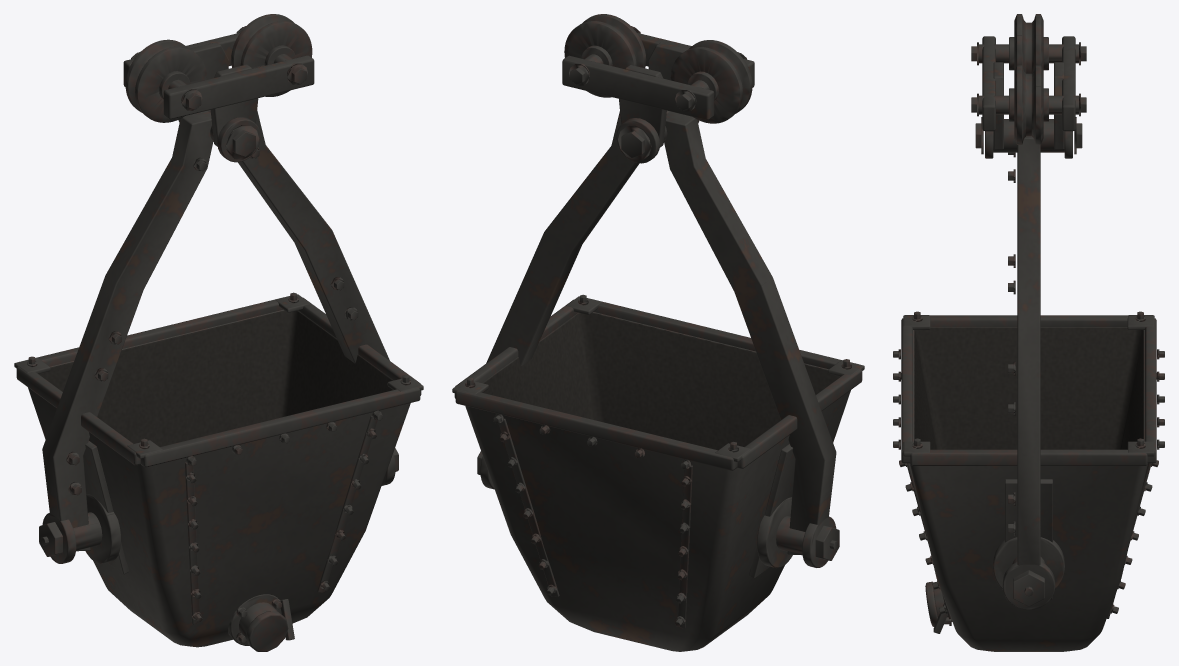
File: Tajia01_CoalBucket_v01.fbx
The picture shows the model from 3 angles, left to right: view 1: azimuth 30°, elevation 25°; view 2: azimuth 150°, elevation 25°; view 3: azimuth 270°, elevation 25°; orthographic projection.
Visible parts, largest first — view 1: Tajia01_CoalBucket_Standalone; view 2: Tajia01_CoalBucket_Standalone; view 3: Tajia01_CoalBucket_Standalone.
Boxes of the visible parts, x1,y1,x2,y2 form: Tajia01_CoalBucket_Standalone: (14,14,423,651); Tajia01_CoalBucket_Standalone: (452,14,864,651); Tajia01_CoalBucket_Standalone: (893,14,1164,651).
Size of the model in its own units: 25.44 by 40.56 by 17.1.
Materials: 1 (1 with a texture image).
